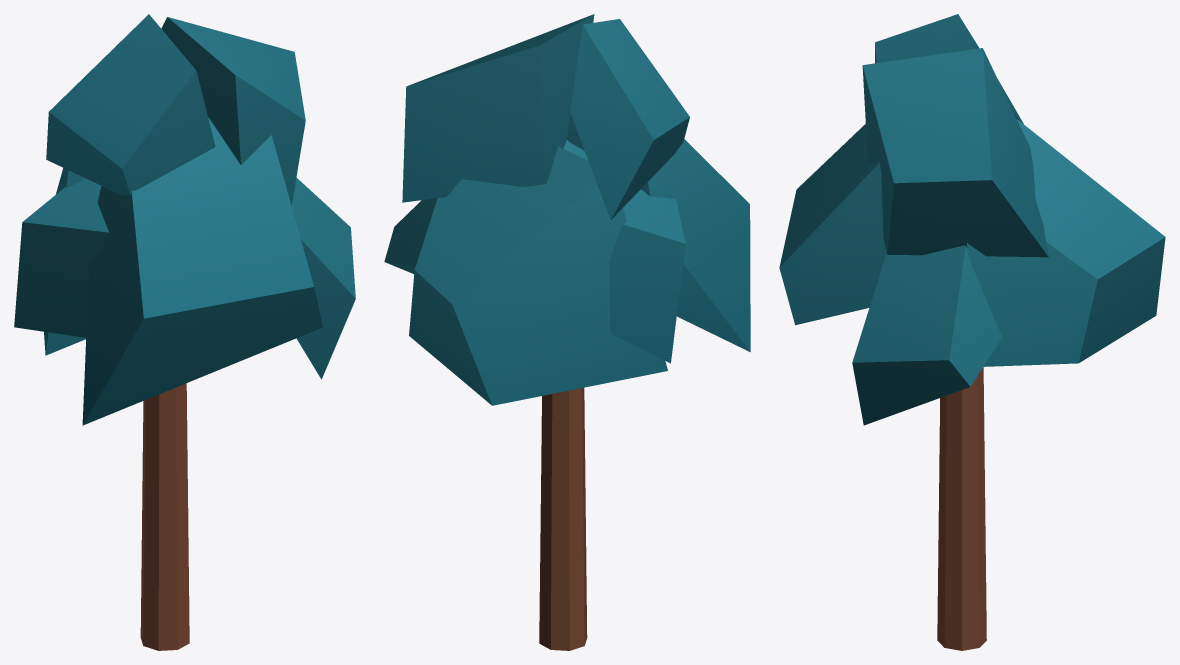
File: Tree_41_gradient_blue_vc.fbx
The picture shows the model from 3 angles, left to right: view 1: azimuth 30°, elevation 25°; view 2: azimuth 150°, elevation 25°; view 3: azimuth 270°, elevation 25°; orthographic projection. The views are drawn at different scales.
Parts seen in each view (by area): view 1: Tree_41_gradient_blue_vc; view 2: Tree_41_gradient_blue_vc; view 3: Tree_41_gradient_blue_vc.
Part boxes in pixels (x1,y1,x2,y2): Tree_41_gradient_blue_vc: (14,14,355,650); Tree_41_gradient_blue_vc: (384,14,750,650); Tree_41_gradient_blue_vc: (779,14,1165,650).
Bounding box in the file's own units: 120 × 229 × 130.
